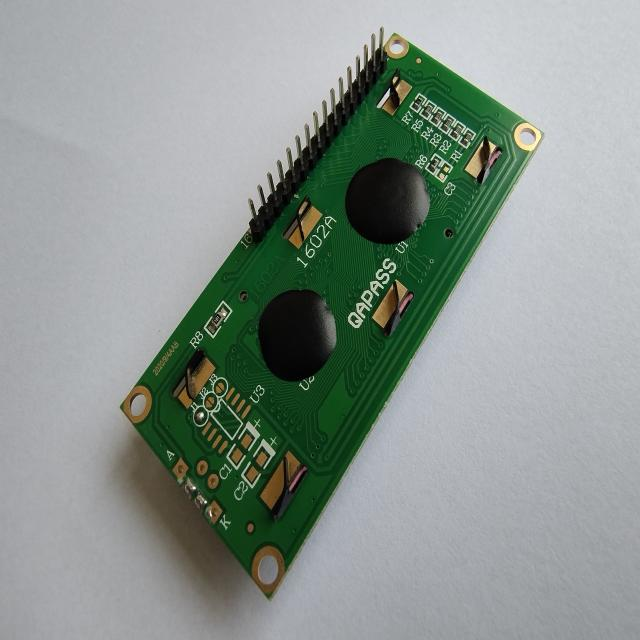lcd: (111, 15, 550, 614)
